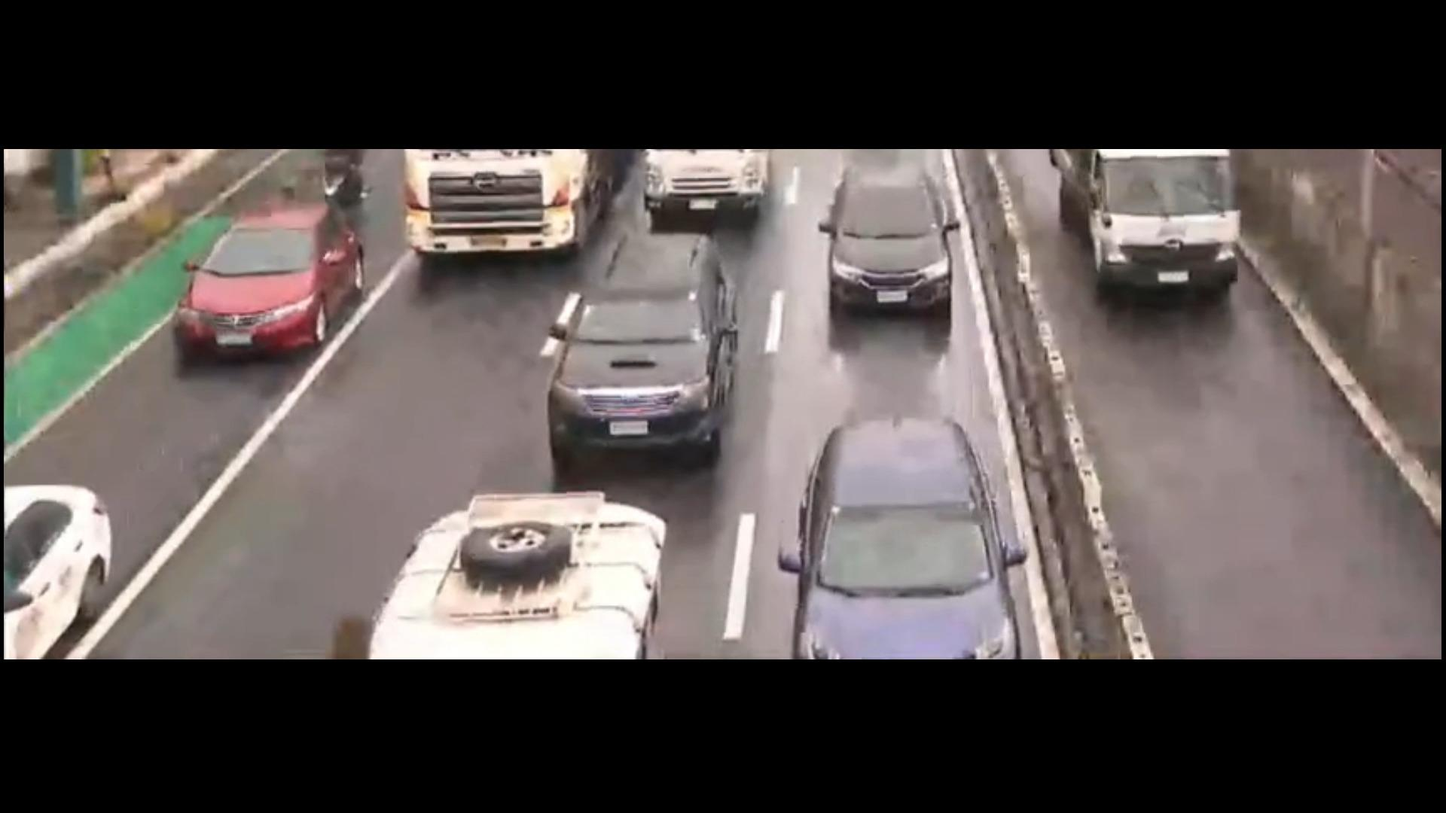SUV: (782, 396, 1054, 664), (522, 222, 767, 477), (801, 157, 970, 342)
Sedan: (164, 181, 386, 378)
Truck: (1055, 151, 1247, 315)
